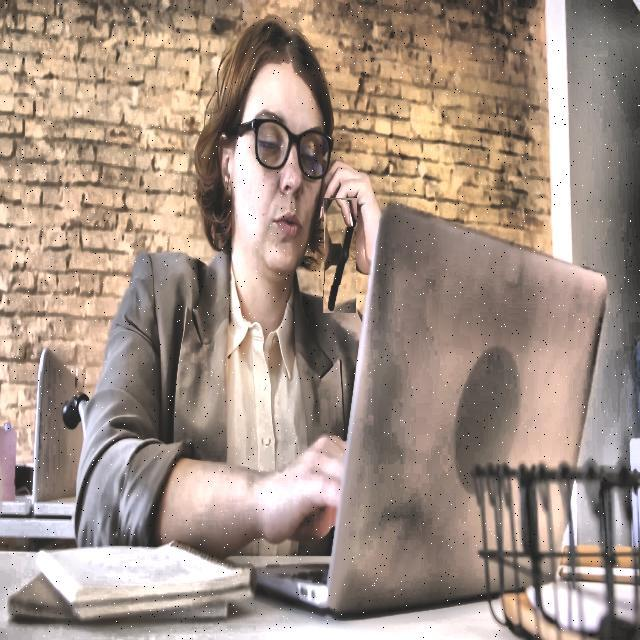Phone: (324, 198, 356, 313)
